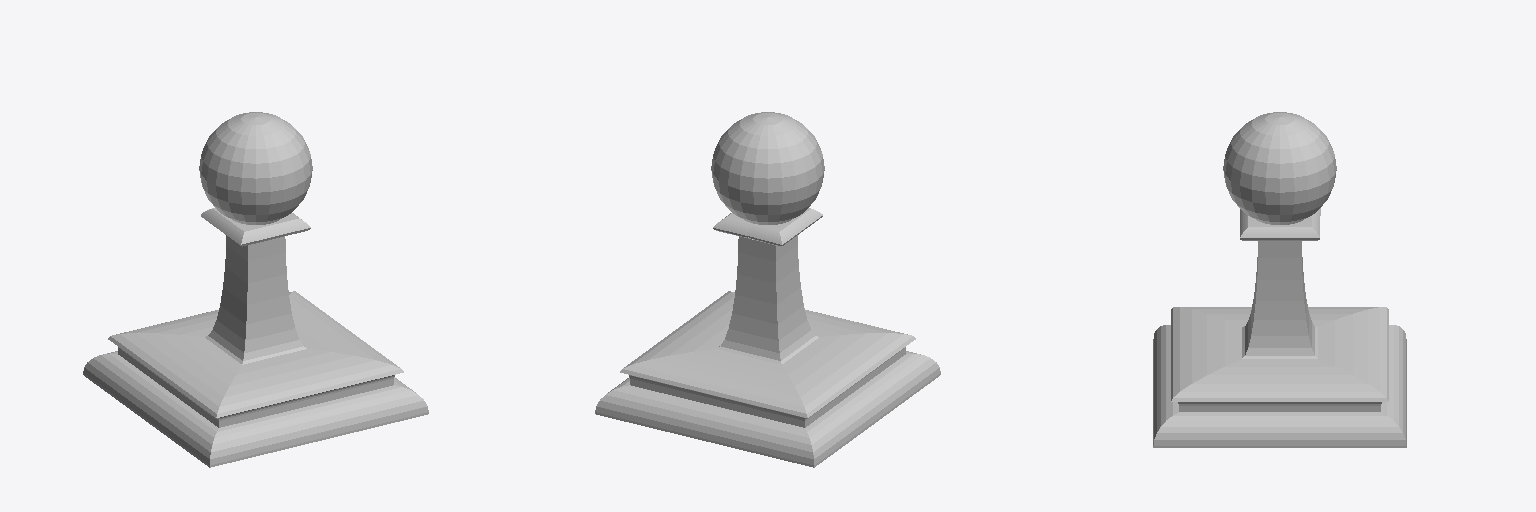
The model's file is peao.obj.
3 views of the same model, side by side, from view 1: azimuth 30°, elevation 25°; view 2: azimuth 150°, elevation 25°; view 3: azimuth 270°, elevation 25° (orthographic).
Parts seen in each view (by area): view 1: Cube, Sphere; view 2: Cube, Sphere; view 3: Cube, Sphere.
Part boxes in pixels (left/top/right/bottom): Cube: left=83, top=208, right=428, bottom=467; Sphere: left=199, top=112, right=312, bottom=224; Cube: left=595, top=208, right=940, bottom=467; Sphere: left=711, top=112, right=824, bottom=224; Cube: left=1153, top=208, right=1406, bottom=447; Sphere: left=1223, top=112, right=1336, bottom=224.
Size of the model in its own units: 2 by 2.42 by 2.